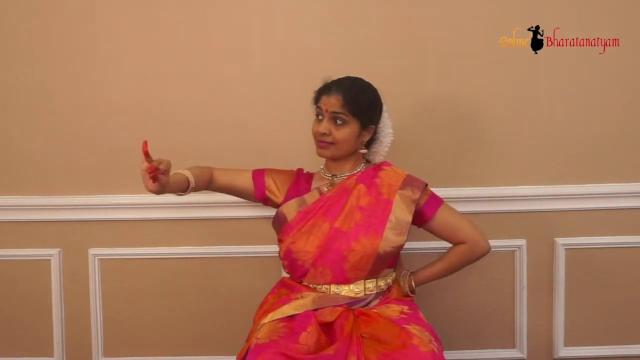bhramara: (132, 128, 192, 198)
